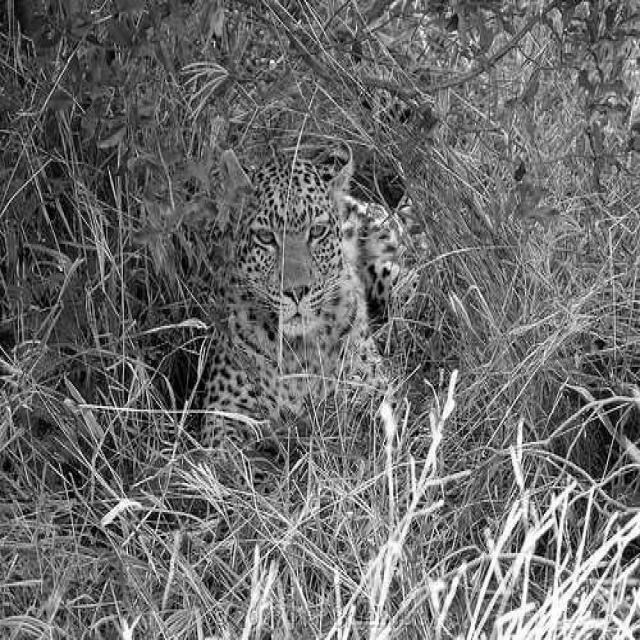Leopard: (195, 138, 417, 461)
